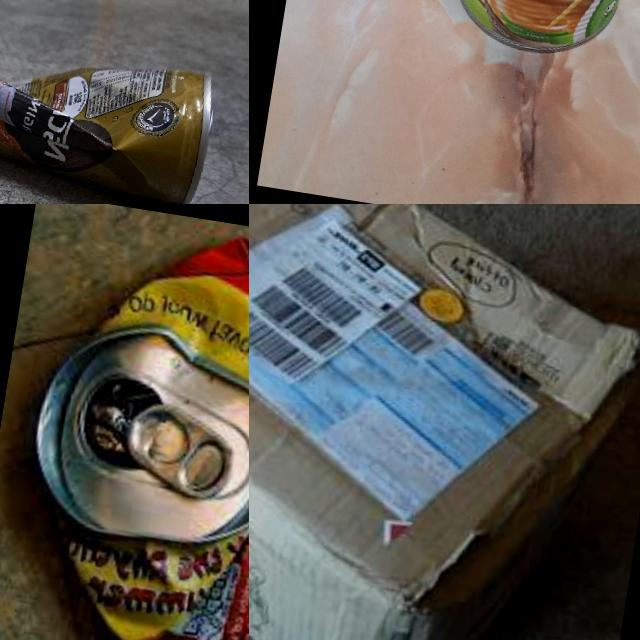aba de lata: (120, 398, 242, 504)
lata: (2, 206, 249, 640), (0, 3, 225, 204)
papelão: (249, 204, 640, 640)
